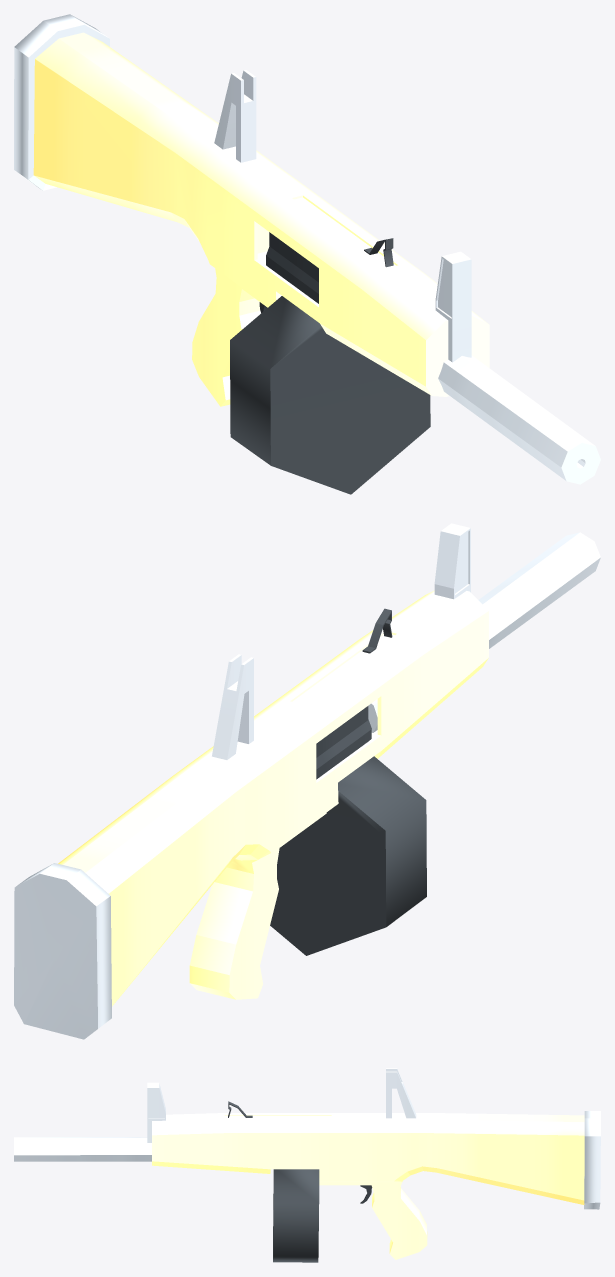
The model's file is Weapon_10.fbx.
3 renders of one model, top to bottom at view 1: azimuth 30°, elevation 25°; view 2: azimuth 150°, elevation 25°; view 3: azimuth 270°, elevation 25°, orthographic. The views are drawn at different scales.
Visible parts, largest first — view 1: AA12Mesh; view 2: AA12Mesh; view 3: AA12Mesh.
Boxes of the visible parts, <box> form: AA12Mesh: <box>14,14,600,494</box>; AA12Mesh: <box>14,523,600,1039</box>; AA12Mesh: <box>14,1068,600,1262</box>.
Bounding box in the file's own units: 69.94 × 144 × 398.
